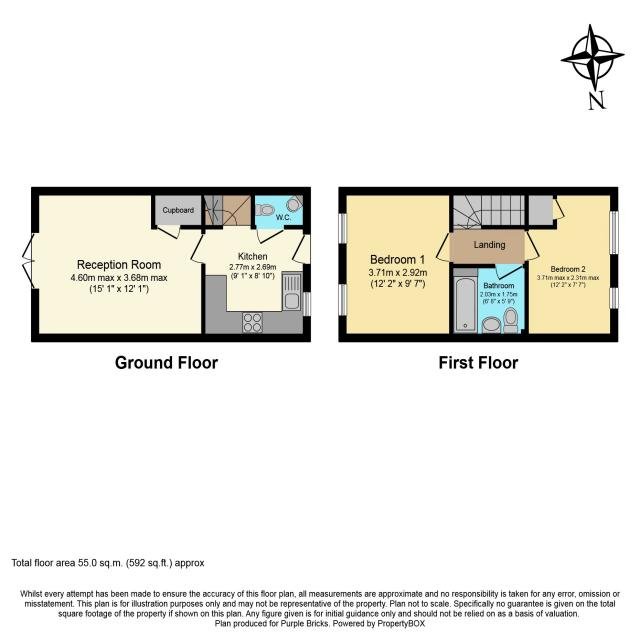DOOR: (20, 231, 39, 290), (290, 233, 311, 265), (434, 231, 454, 262), (256, 225, 284, 245), (189, 233, 206, 265), (524, 231, 541, 262), (494, 264, 524, 281)
ROOM: (20, 186, 206, 342), (338, 186, 454, 343), (524, 187, 618, 342), (189, 225, 311, 343)
WINDOW: (609, 210, 619, 255), (338, 213, 348, 244), (338, 284, 347, 316), (609, 287, 619, 309), (303, 292, 311, 317)
